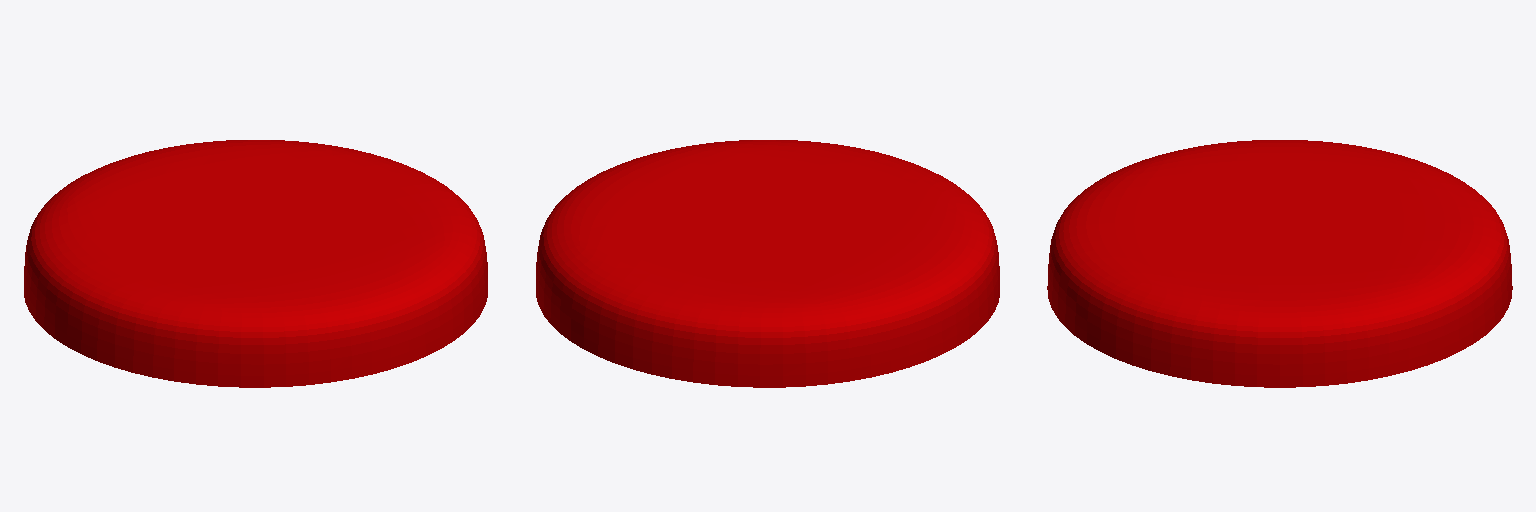
3 renders of one model, left to right at view 1: azimuth 30°, elevation 25°; view 2: azimuth 150°, elevation 25°; view 3: azimuth 270°, elevation 25°, orthographic.
Visible parts, largest first — view 1: button2; view 2: button2; view 3: button2.
Boxes of the visible parts, box(x1,y1,x2,y2) form: button2: box(24, 140, 487, 387); button2: box(536, 140, 999, 387); button2: box(1047, 140, 1512, 387).
Bounding box in the file's own units: 0.0316 × 0.005 × 0.0316.